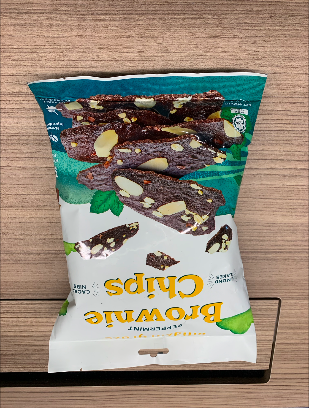Crackers_100-199g: (60, 102, 230, 342)
